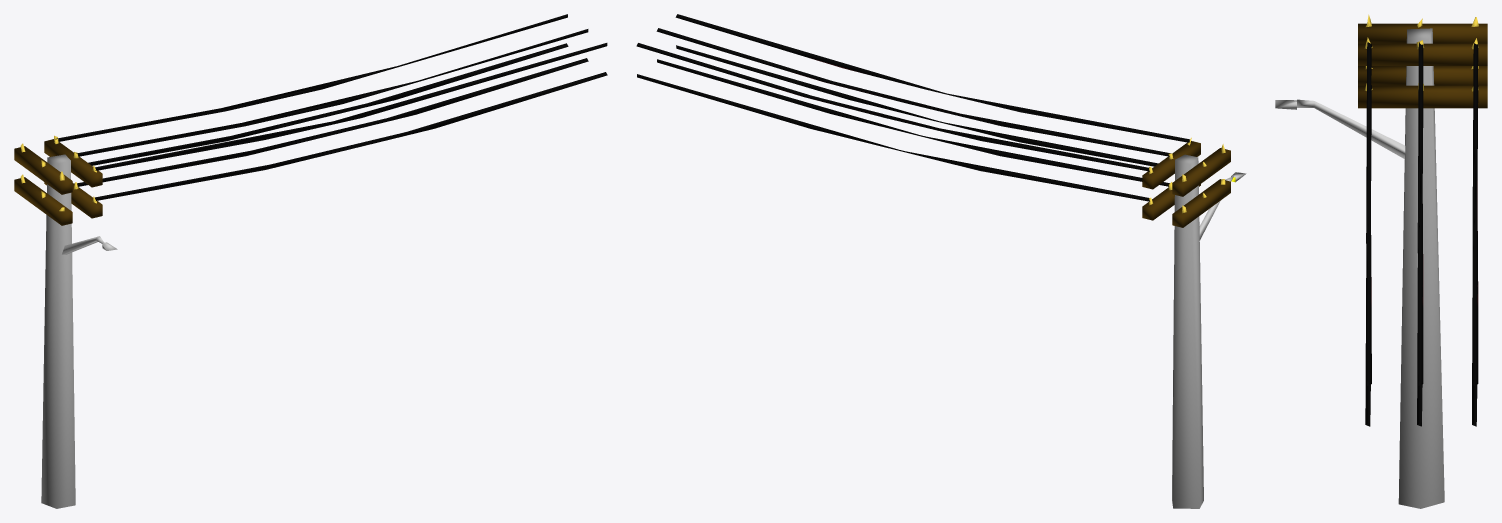
Rendered from PosteDeLuzFiosLadoDireitoLOD1.fbx.
The picture shows the model from 3 angles, left to right: view 1: azimuth 30°, elevation 25°; view 2: azimuth 150°, elevation 25°; view 3: azimuth 270°, elevation 25°; orthographic projection. The views are drawn at different scales.
Parts seen in each view (by area): view 1: PosteDeLuzFiosLadoDireitoLOD1; view 2: PosteDeLuzFiosLadoDireitoLOD1; view 3: PosteDeLuzFiosLadoDireitoLOD1.
Boxes of the visible parts, left/top/right/bottom form: PosteDeLuzFiosLadoDireitoLOD1: left=14, top=14, right=607, bottom=508; PosteDeLuzFiosLadoDireitoLOD1: left=636, top=14, right=1246, bottom=508; PosteDeLuzFiosLadoDireitoLOD1: left=1275, top=14, right=1487, bottom=508.
Size of the model in its own units: 1215 by 738 by 299.
